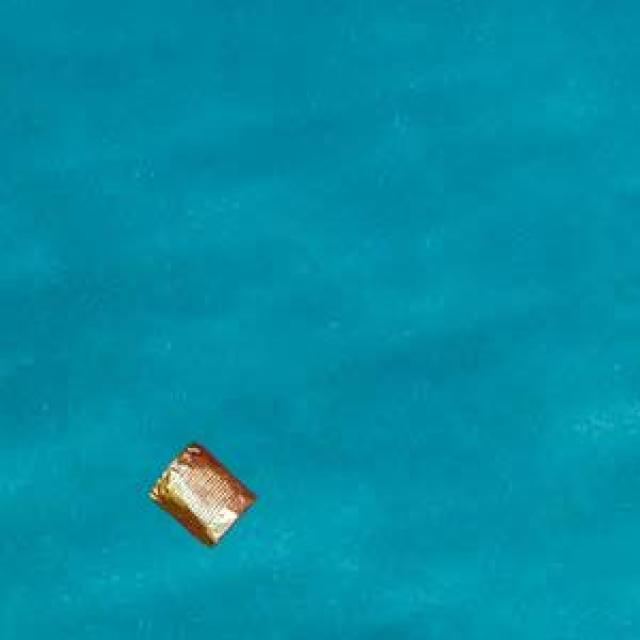logam: (146, 441, 253, 543)
